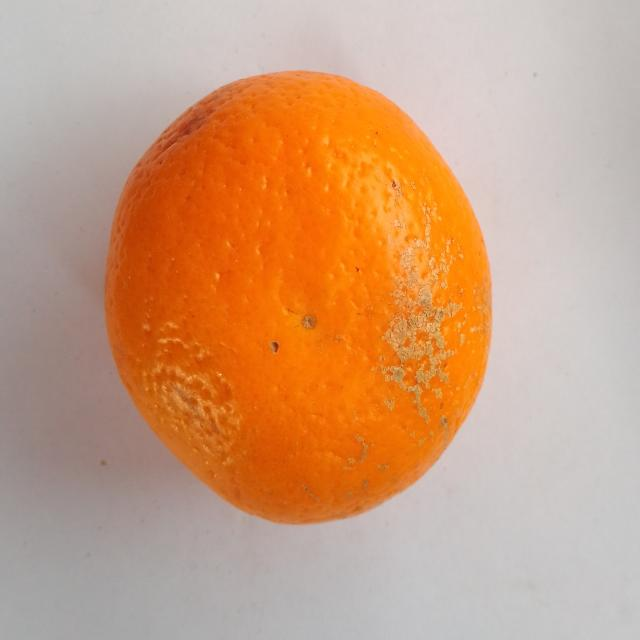orange: (106, 72, 490, 523)
